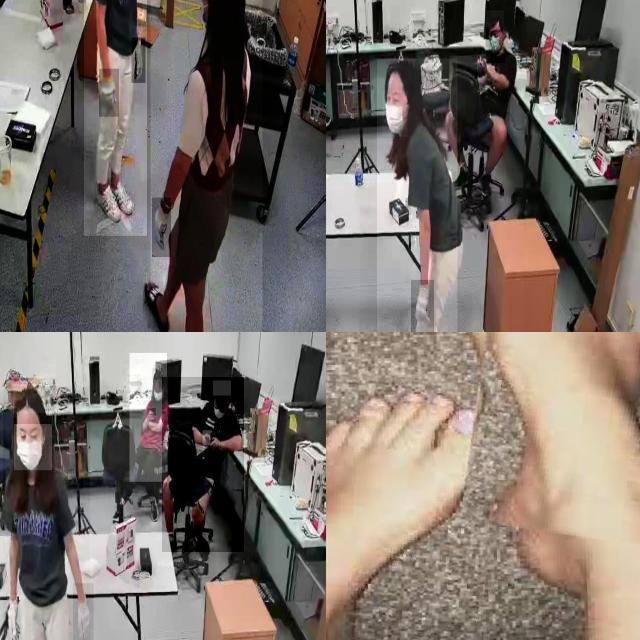Barefoots: (472, 332, 640, 592), (326, 385, 489, 640)
face_mask: (14, 424, 52, 470), (382, 90, 408, 136), (486, 28, 506, 63)
hand_glove: (152, 198, 172, 258), (73, 583, 94, 640), (411, 280, 434, 332), (0, 594, 24, 640), (99, 68, 119, 118), (132, 38, 146, 84)
hand_noglove: (477, 54, 491, 73), (484, 62, 496, 82), (208, 434, 220, 453), (203, 430, 211, 446), (147, 408, 157, 419)
head_nohelmet: (13, 384, 46, 414), (384, 60, 416, 80), (486, 10, 504, 28), (213, 381, 231, 396), (152, 368, 163, 380)
person: (150, 0, 263, 332), (377, 58, 458, 332), (3, 385, 90, 640), (84, 0, 147, 236), (162, 377, 244, 553), (448, 12, 514, 199), (130, 353, 168, 483)
shoes: (93, 176, 123, 226), (106, 170, 137, 216), (452, 154, 470, 196), (476, 170, 496, 202)
